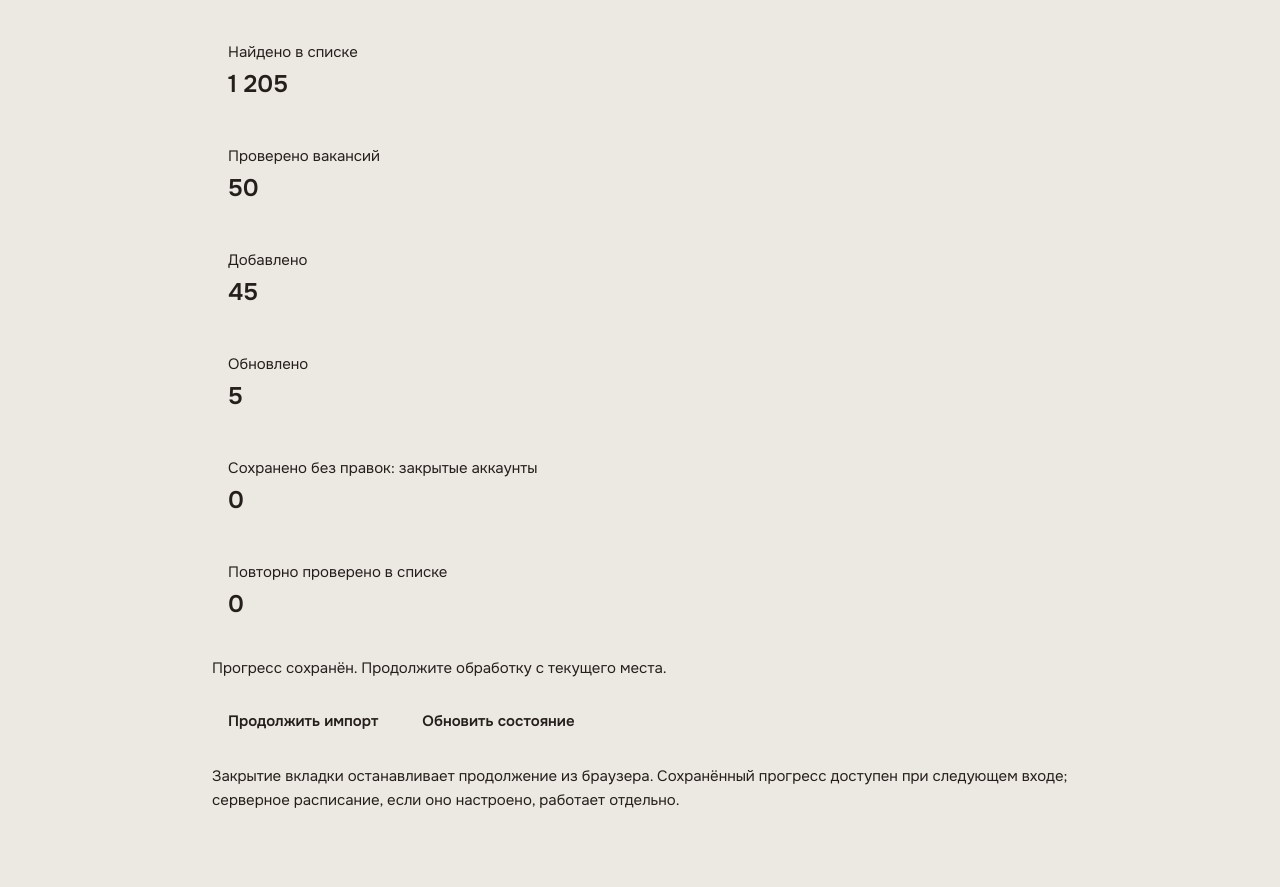
Scenario: failed processing shows the durable failure and never continues after lost administrative rights
(page scrolled)
Click the button "Продолжить импорт" at x=303, y=722, box [212,700,394,744]
(page scrolled)
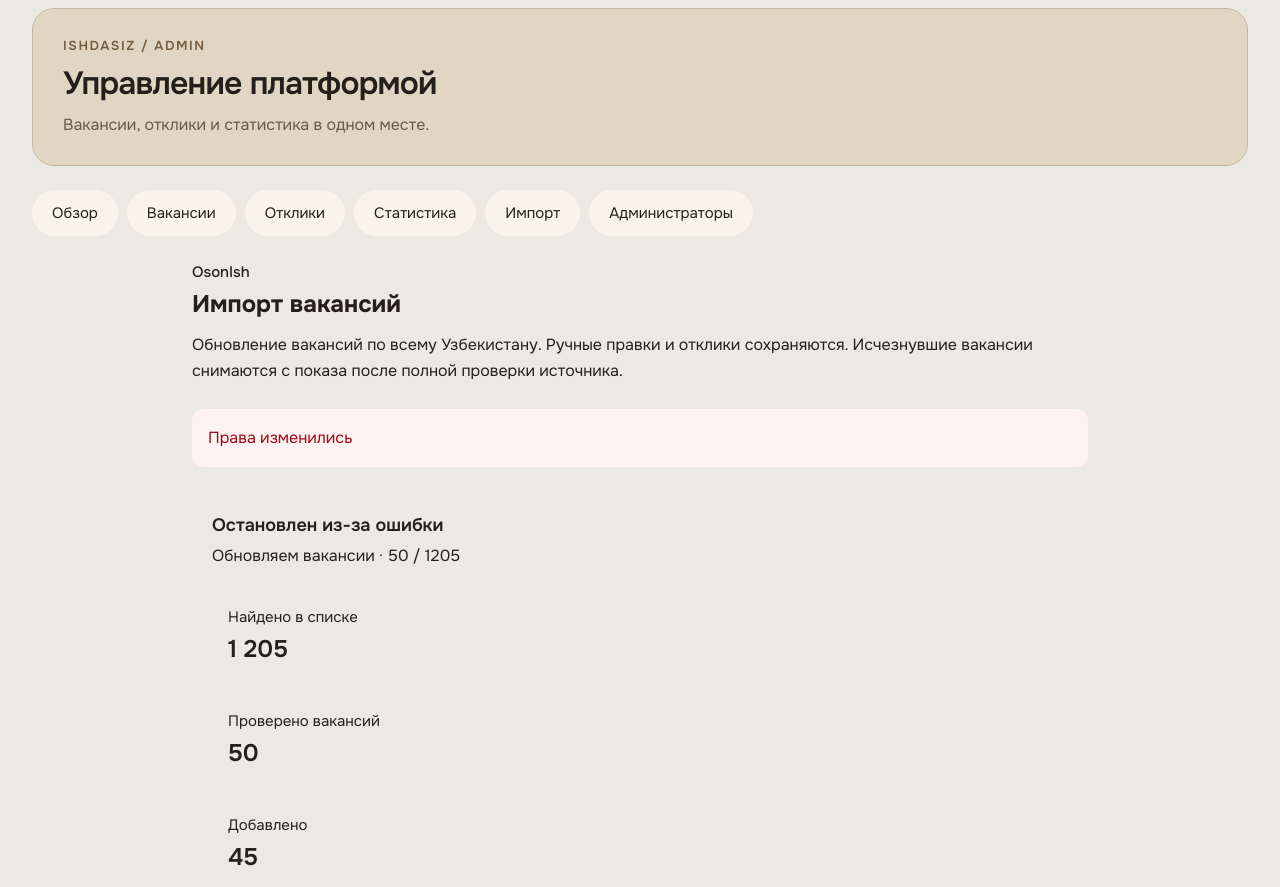
Expected: the heading "Остановлен из-за ошибки" is shown, [212,514,444,536]
Expected: the message reads "Права изменились", [208,427,352,448]
Expected: the button "Продолжить импорт" is gone
